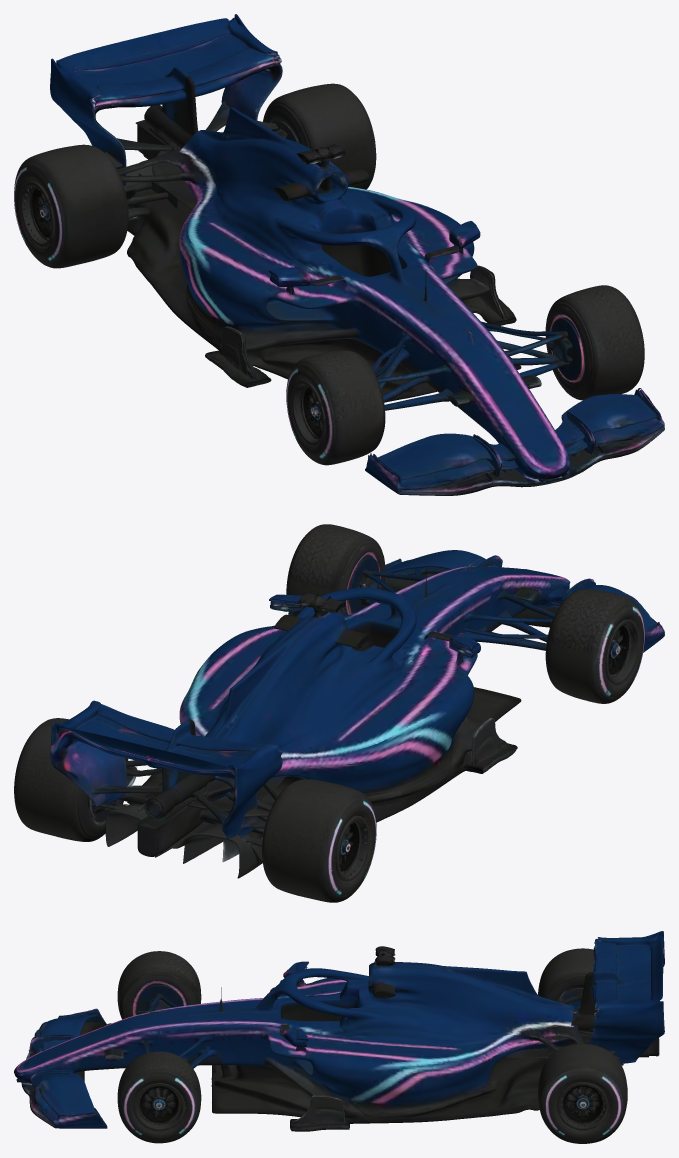
File: 创变者配色车-optimized.glb
The picture shows the model from 3 angles, top to bottom: view 1: azimuth 30°, elevation 25°; view 2: azimuth 150°, elevation 25°; view 3: azimuth 270°, elevation 25°; orthographic projection. The views are drawn at different scales.
Parts seen in each view (by area): view 1: tripo_part_21, tripo_part_4, tripo_part_1, tripo_part_22, tripo_part_2, tripo_part_23, tripo_part_17, tripo_part_36, tripo_part_14, tripo_part_35, tripo_part_15, tripo_part_37 (+5 smaller); view 2: tripo_part_21, tripo_part_4, tripo_part_1, tripo_part_22, tripo_part_23, tripo_part_2, tripo_part_17, tripo_part_13, tripo_part_36, tripo_part_15, tripo_part_6, tripo_part_35 (+1 smaller); view 3: tripo_part_21, tripo_part_23, tripo_part_2, tripo_part_1, tripo_part_22, tripo_part_4, tripo_part_37, tripo_part_17, tripo_part_35, tripo_part_30, tripo_part_36, tripo_part_31.
Part boxes in pixels (bbox=[...]): tripo_part_21: bbox=[124, 105, 664, 495]; tripo_part_4: bbox=[14, 144, 128, 268]; tripo_part_1: bbox=[50, 14, 282, 185]; tripo_part_22: bbox=[286, 350, 385, 465]; tripo_part_2: bbox=[545, 285, 644, 400]; tripo_part_23: bbox=[263, 83, 376, 189]; tripo_part_17: bbox=[57, 18, 234, 71]; tripo_part_36: bbox=[186, 48, 279, 86]; tripo_part_14: bbox=[117, 148, 204, 185]; tripo_part_35: bbox=[93, 76, 183, 100]; tripo_part_15: bbox=[379, 348, 452, 410]; tripo_part_37: bbox=[162, 67, 198, 135]; tripo_part_21: bbox=[105, 550, 664, 878]; tripo_part_4: bbox=[262, 779, 376, 902]; tripo_part_1: bbox=[50, 700, 282, 838]; tripo_part_22: bbox=[545, 589, 644, 703]; tripo_part_23: bbox=[14, 718, 128, 841]; tripo_part_2: bbox=[286, 524, 385, 616]; tripo_part_17: bbox=[56, 724, 234, 774]; tripo_part_13: bbox=[463, 590, 554, 638]; tripo_part_36: bbox=[97, 704, 174, 743]; tripo_part_15: bbox=[464, 611, 547, 650]; tripo_part_6: bbox=[88, 766, 162, 822]; tripo_part_35: bbox=[176, 733, 278, 750]; tripo_part_21: bbox=[14, 946, 659, 1131]; tripo_part_23: bbox=[538, 1044, 627, 1143]; tripo_part_2: bbox=[117, 1051, 201, 1143]; tripo_part_1: bbox=[578, 931, 664, 1063]; tripo_part_22: bbox=[117, 951, 201, 1019]; tripo_part_4: bbox=[538, 948, 593, 1001]; tripo_part_37: bbox=[576, 971, 627, 1015]; tripo_part_17: bbox=[649, 933, 663, 1001]; tripo_part_35: bbox=[594, 939, 617, 974]; tripo_part_30: bbox=[521, 1024, 584, 1051]; tripo_part_36: bbox=[594, 980, 617, 1010]; tripo_part_31: bbox=[138, 1035, 212, 1057].
Bounding box in the file's own units: 0.4416 × 0.2304 × 0.9999.
23 materials, 23 textured.
